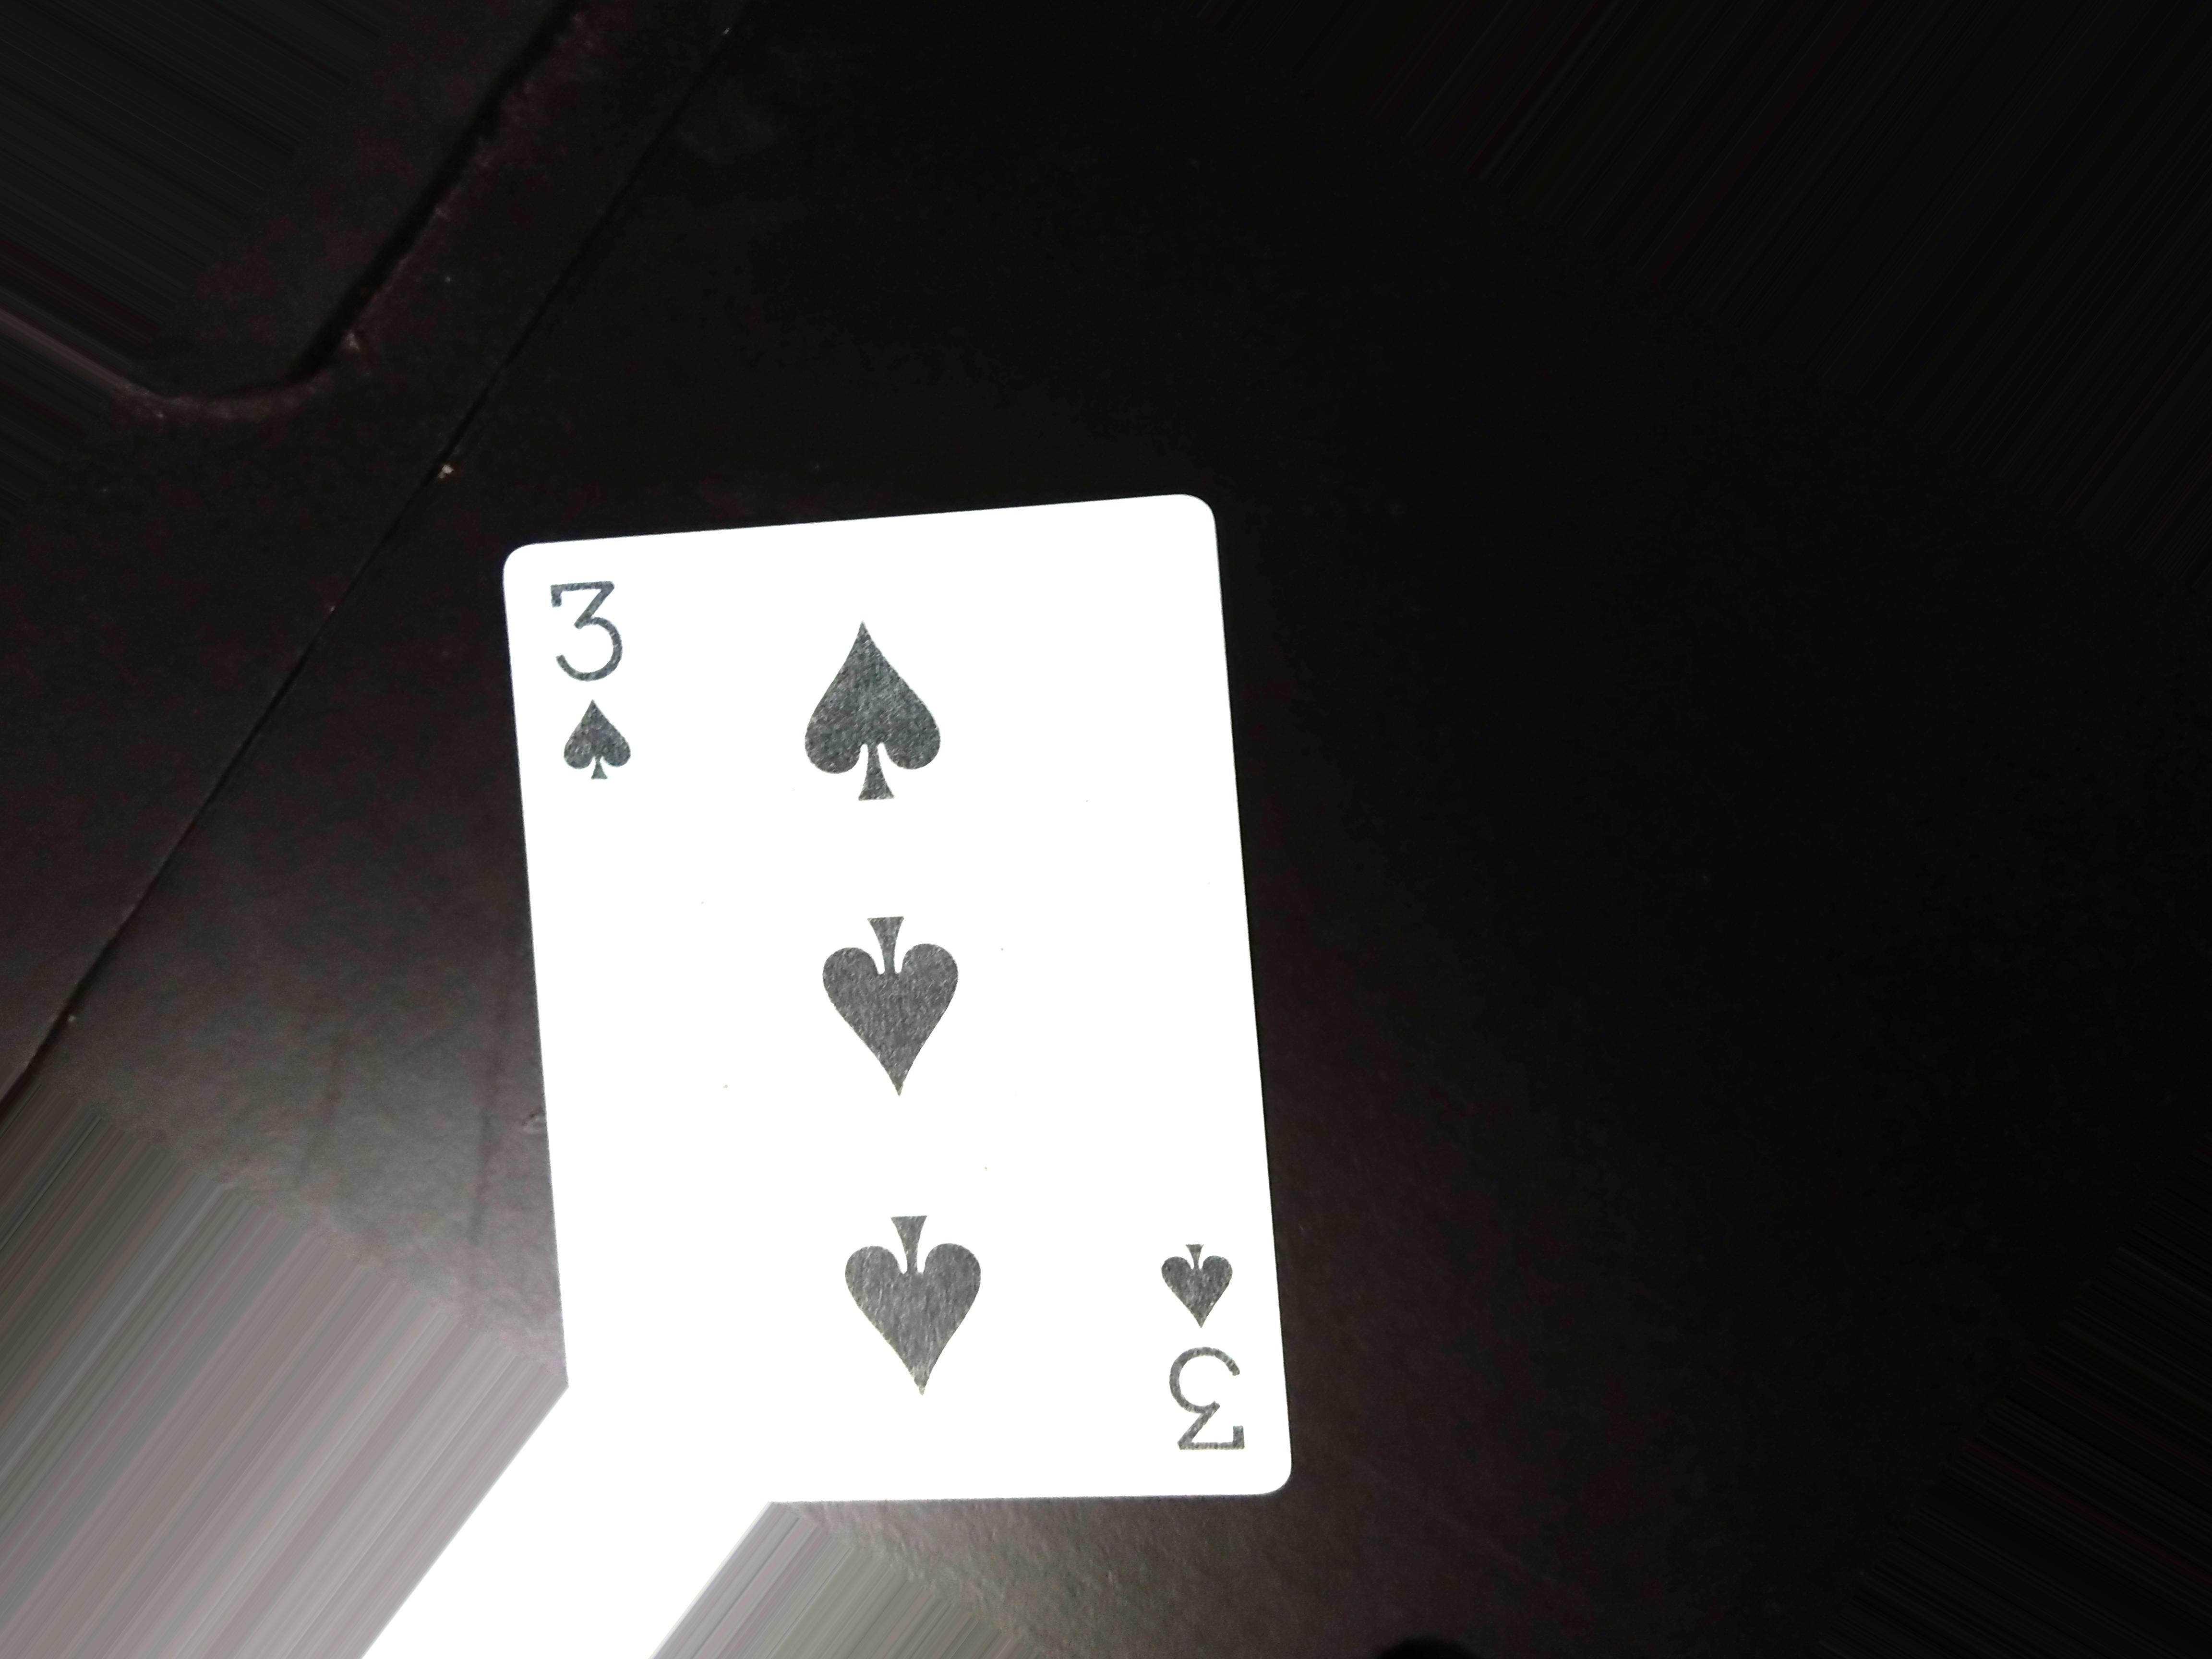3S: (528, 561, 681, 812)
